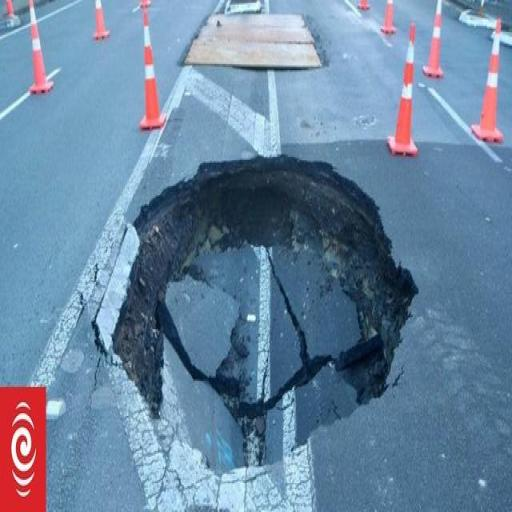Concentric_Crack: (96, 156, 417, 472)
